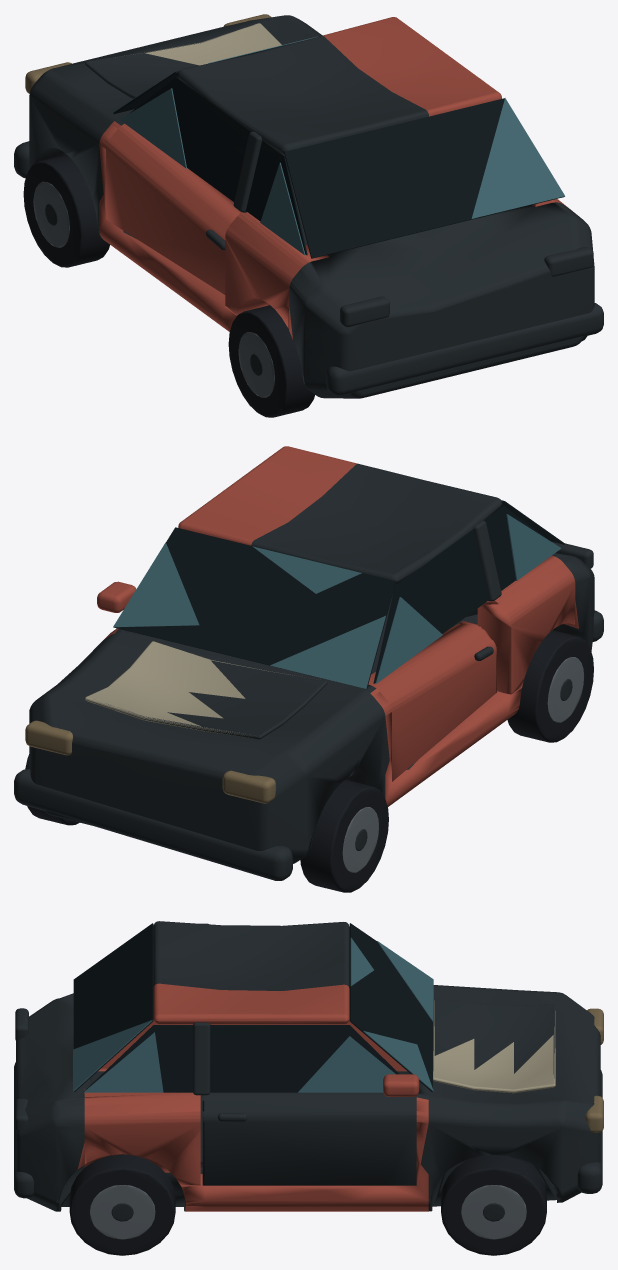
The model's file is vehicle_wrecks_03.glb.
The picture shows the model from 3 angles, top to bottom: view 1: azimuth 30°, elevation 25°; view 2: azimuth 150°, elevation 25°; view 3: azimuth 270°, elevation 25°; orthographic projection. The views are drawn at different scales.
Visible parts, largest first — view 1: VehicleWrecks03_Mesh; view 2: VehicleWrecks03_Mesh; view 3: VehicleWrecks03_Mesh.
Boxes of the visible parts, x1,y1,x2,y2 form: VehicleWrecks03_Mesh: (14, 14, 603, 417); VehicleWrecks03_Mesh: (14, 446, 603, 892); VehicleWrecks03_Mesh: (14, 921, 603, 1255).
Size of the model in its own units: 1.89 by 1.42 by 3.43.
